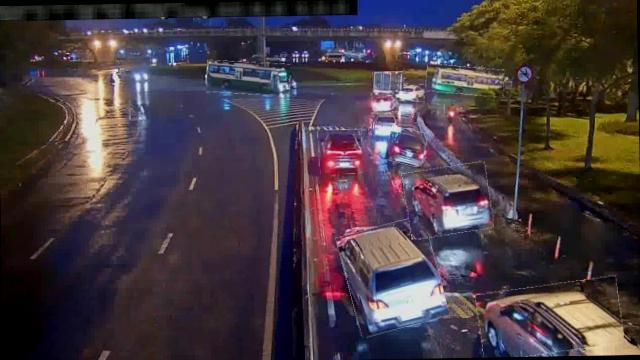Bike: (445, 100, 457, 122)
Bus: (206, 60, 290, 94), (426, 63, 506, 96)
Car: (341, 218, 444, 332), (477, 279, 622, 357), (404, 163, 492, 237), (318, 128, 363, 174), (386, 127, 427, 166), (372, 90, 398, 114), (372, 113, 398, 137), (396, 85, 425, 103)
Truck: (372, 72, 405, 98)
